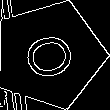O_E: (17, 27, 82, 83)
